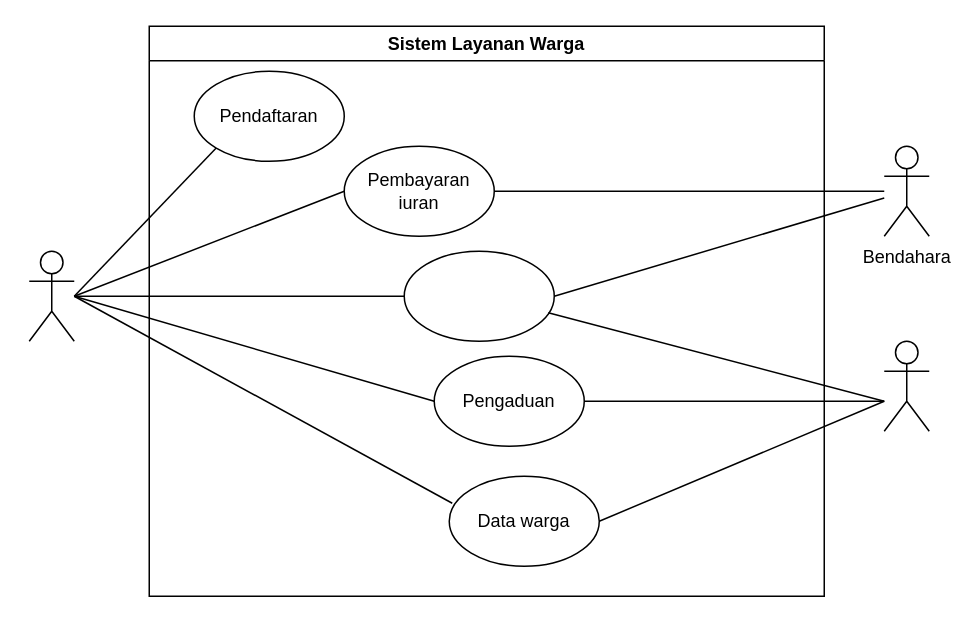
This 977x623 diagram has some shape labels left out. Each missing label, with the centre of its shape:
Ketua RT: [906,385]
Laporan keuangan: [478,295]
Warga: [51,295]
